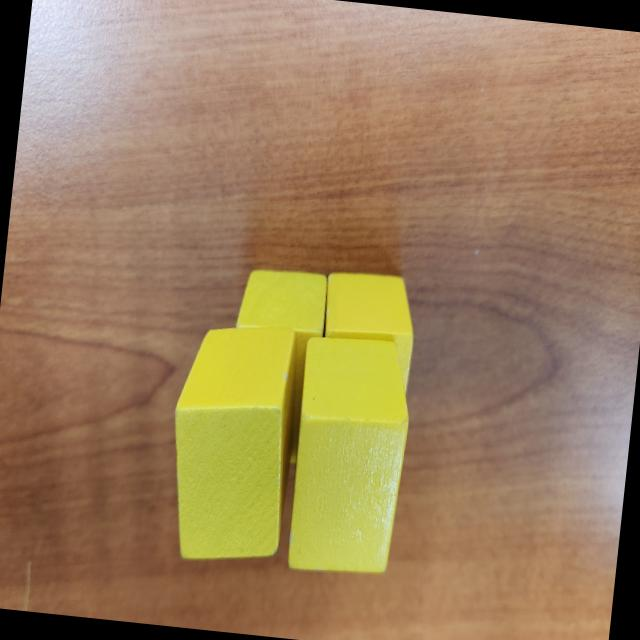yellow: (157, 318, 308, 572), (280, 332, 420, 582), (220, 265, 330, 469), (315, 270, 418, 400)
